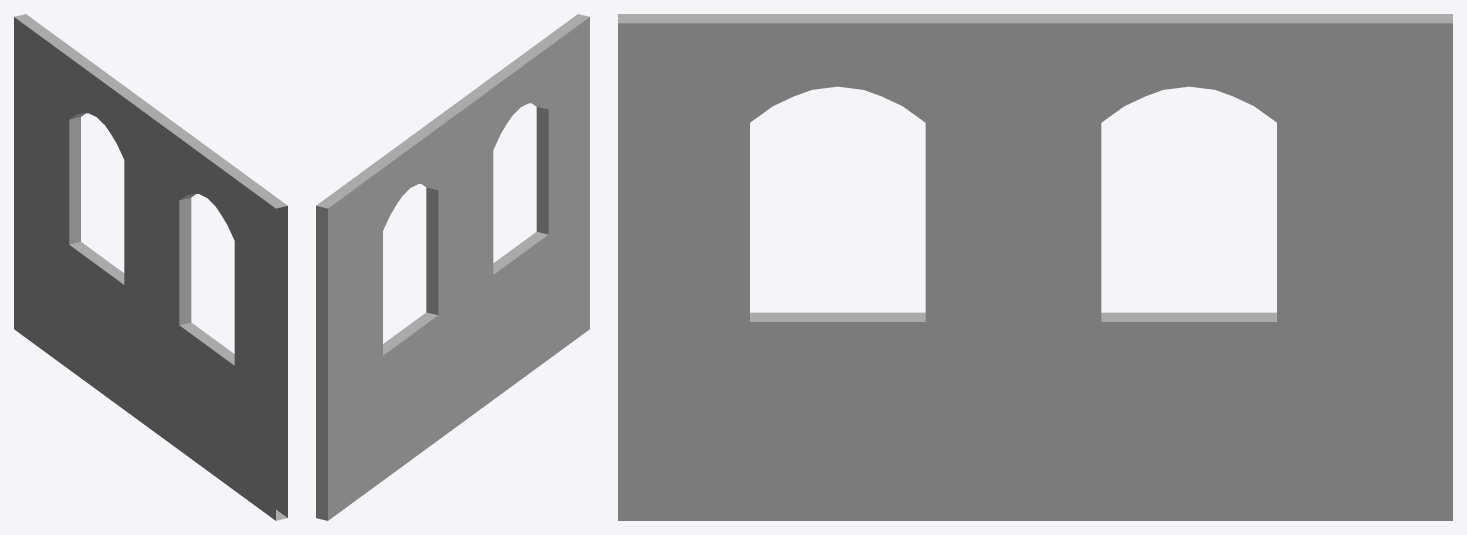
File: wall2.fbx
The picture shows the model from 3 angles, left to right: view 1: azimuth 30°, elevation 25°; view 2: azimuth 150°, elevation 25°; view 3: azimuth 270°, elevation 25°; orthographic projection. The views are drawn at different scales.
Parts seen in each view (by area): view 1: wall2; view 2: wall2; view 3: wall2.
Boxes of the visible parts, x1=… form: wall2: x1=14, y1=14, x2=287, y2=520; wall2: x1=316, y1=14, x2=589, y2=520; wall2: x1=618, y1=14, x2=1452, y2=520.
Bounding box in the file's own units: 10 × 250 × 380.
